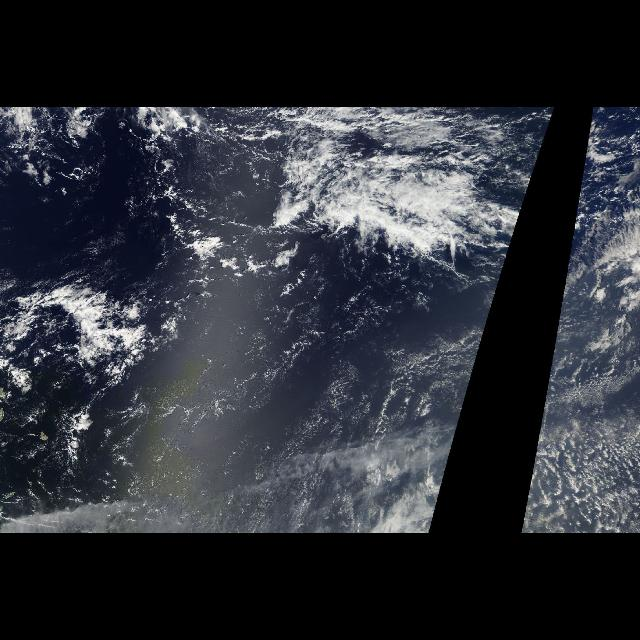Fish: (0, 108, 518, 382)
Gravel: (520, 408, 640, 532)
Sugar: (1, 299, 483, 533)
